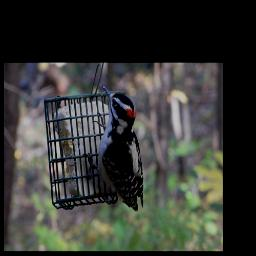Woodpecker: (84, 84, 144, 212)
